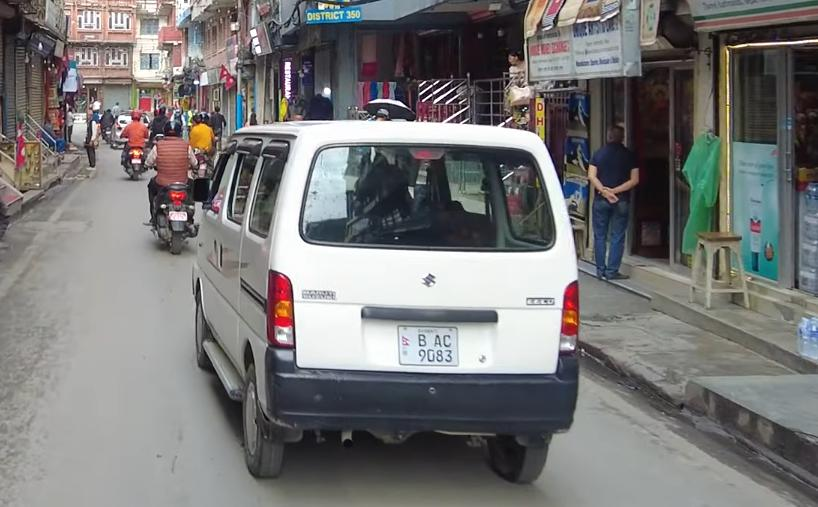scooter: (145, 177, 201, 258), (123, 136, 151, 183)
van: (183, 113, 583, 484)
